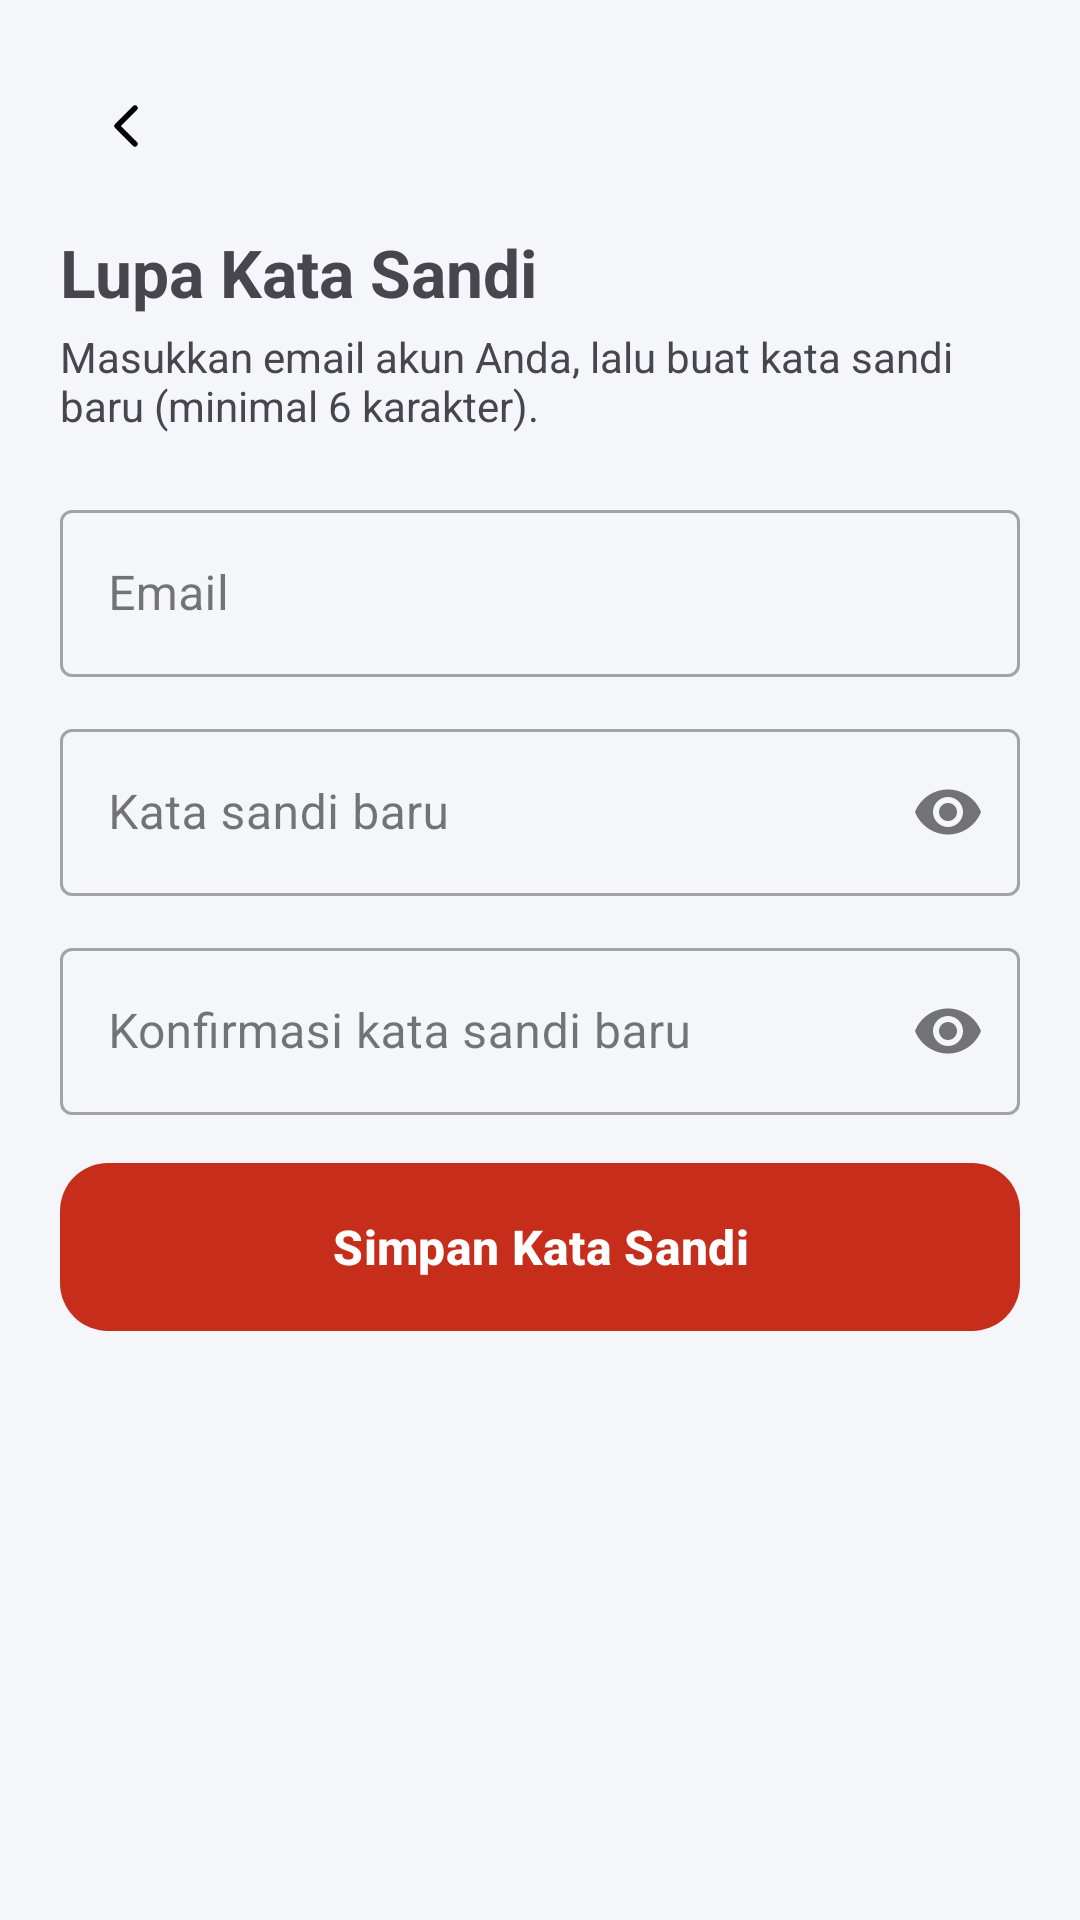

Where icons sit on this 1080px x 1920px app screen, as (x1, y1, x2, y2):
Kembali: (114, 105, 138, 147)
